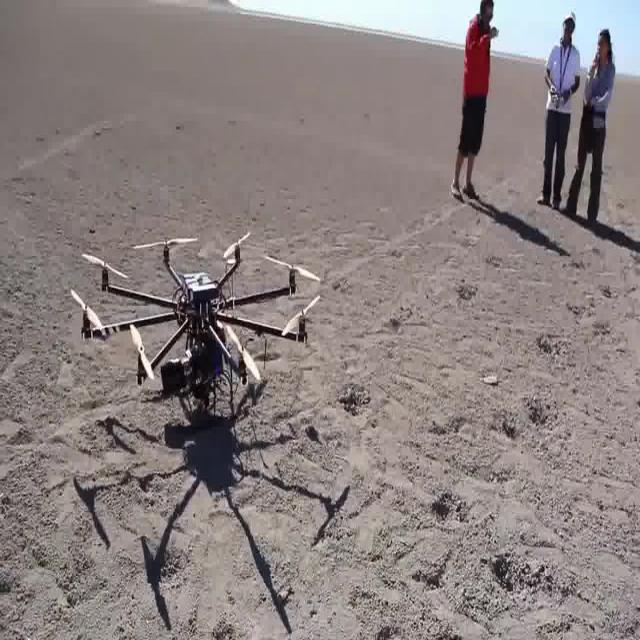drone: (68, 231, 327, 470)
